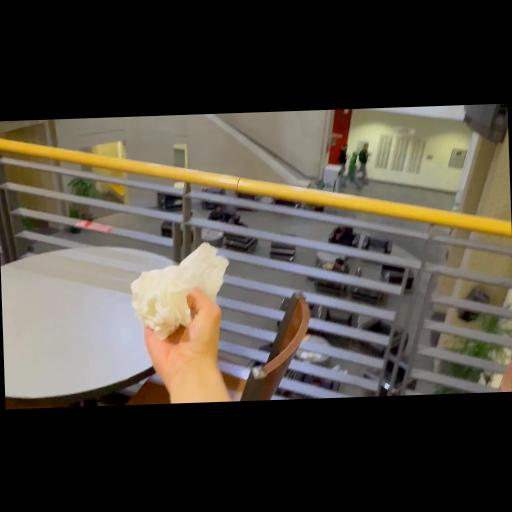napkin: (126, 238, 234, 343)
